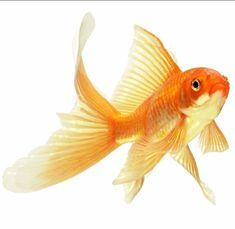goldfish: (45, 43, 230, 200)
